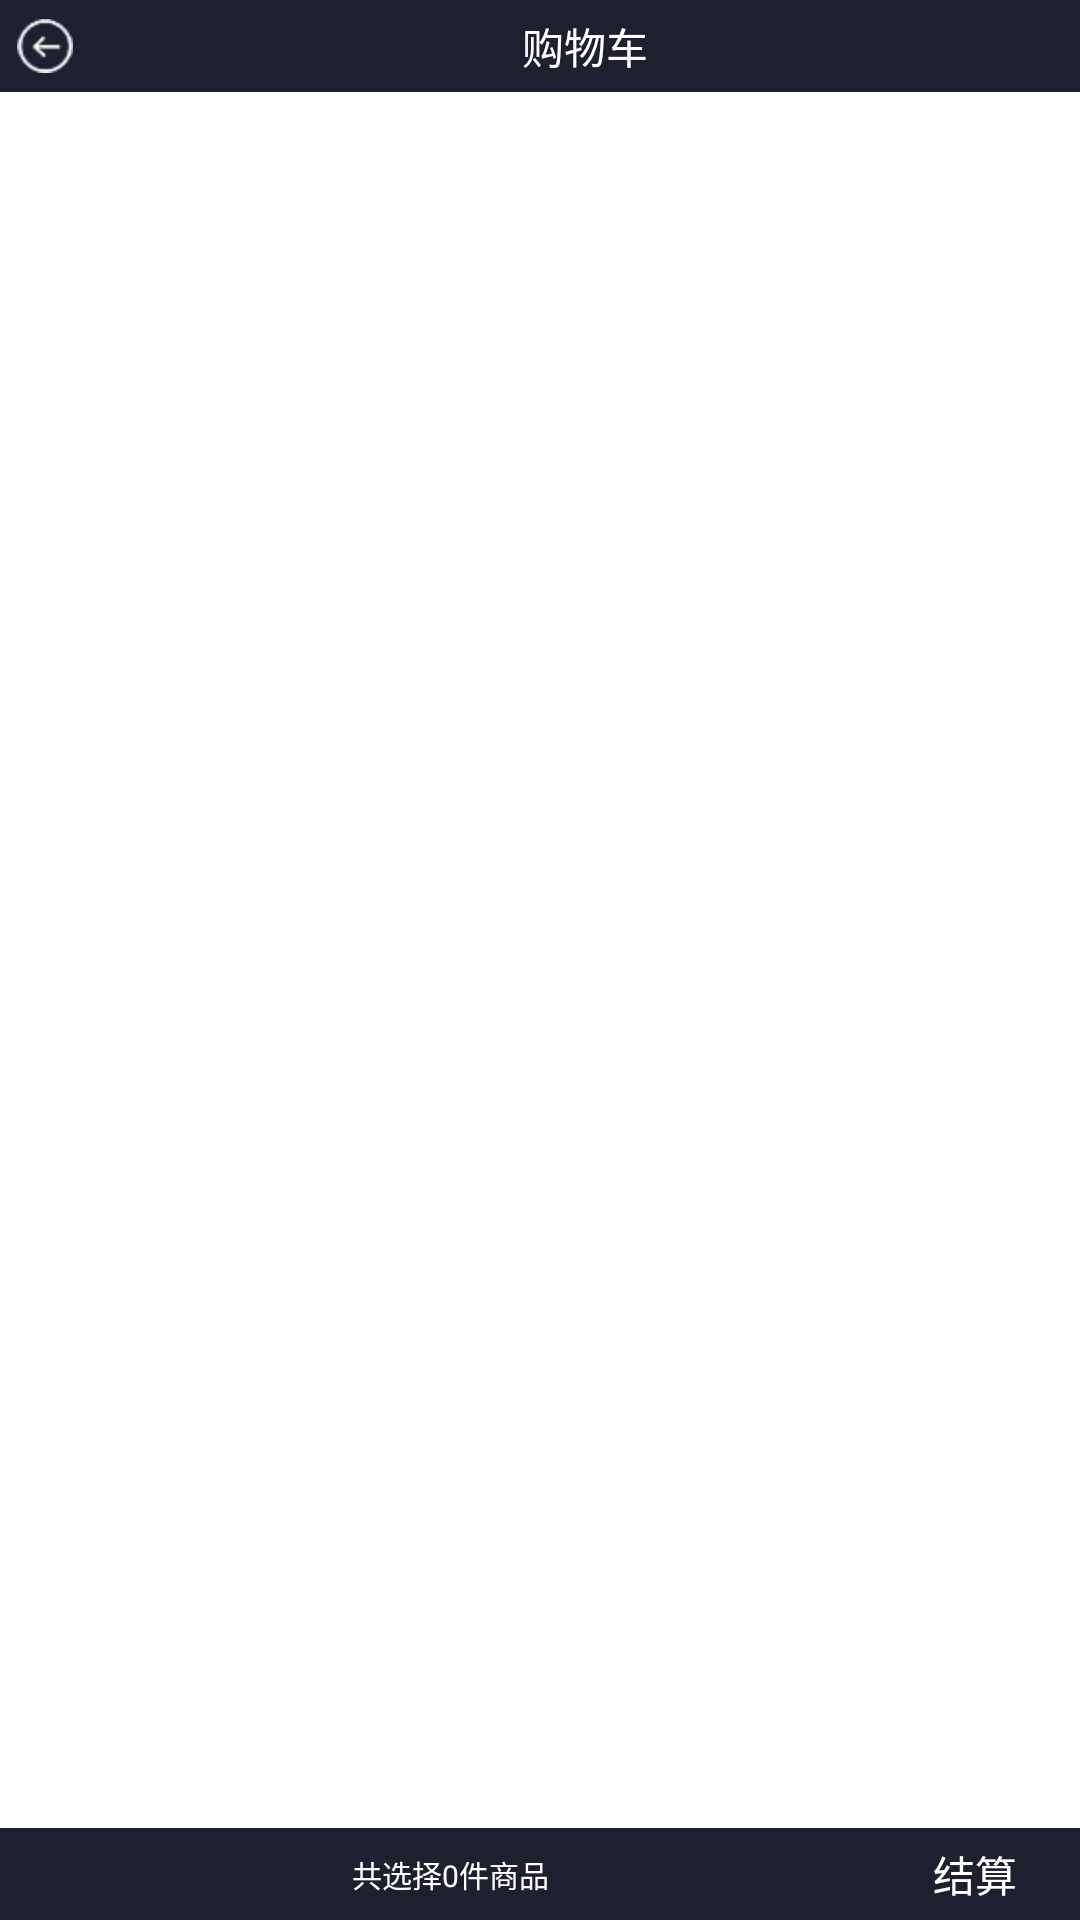

Icons on this 1080*1920 Android screen, each with its box as bbox=[x1, y1, x2, y2]:
back: bbox=[17, 19, 73, 73]
